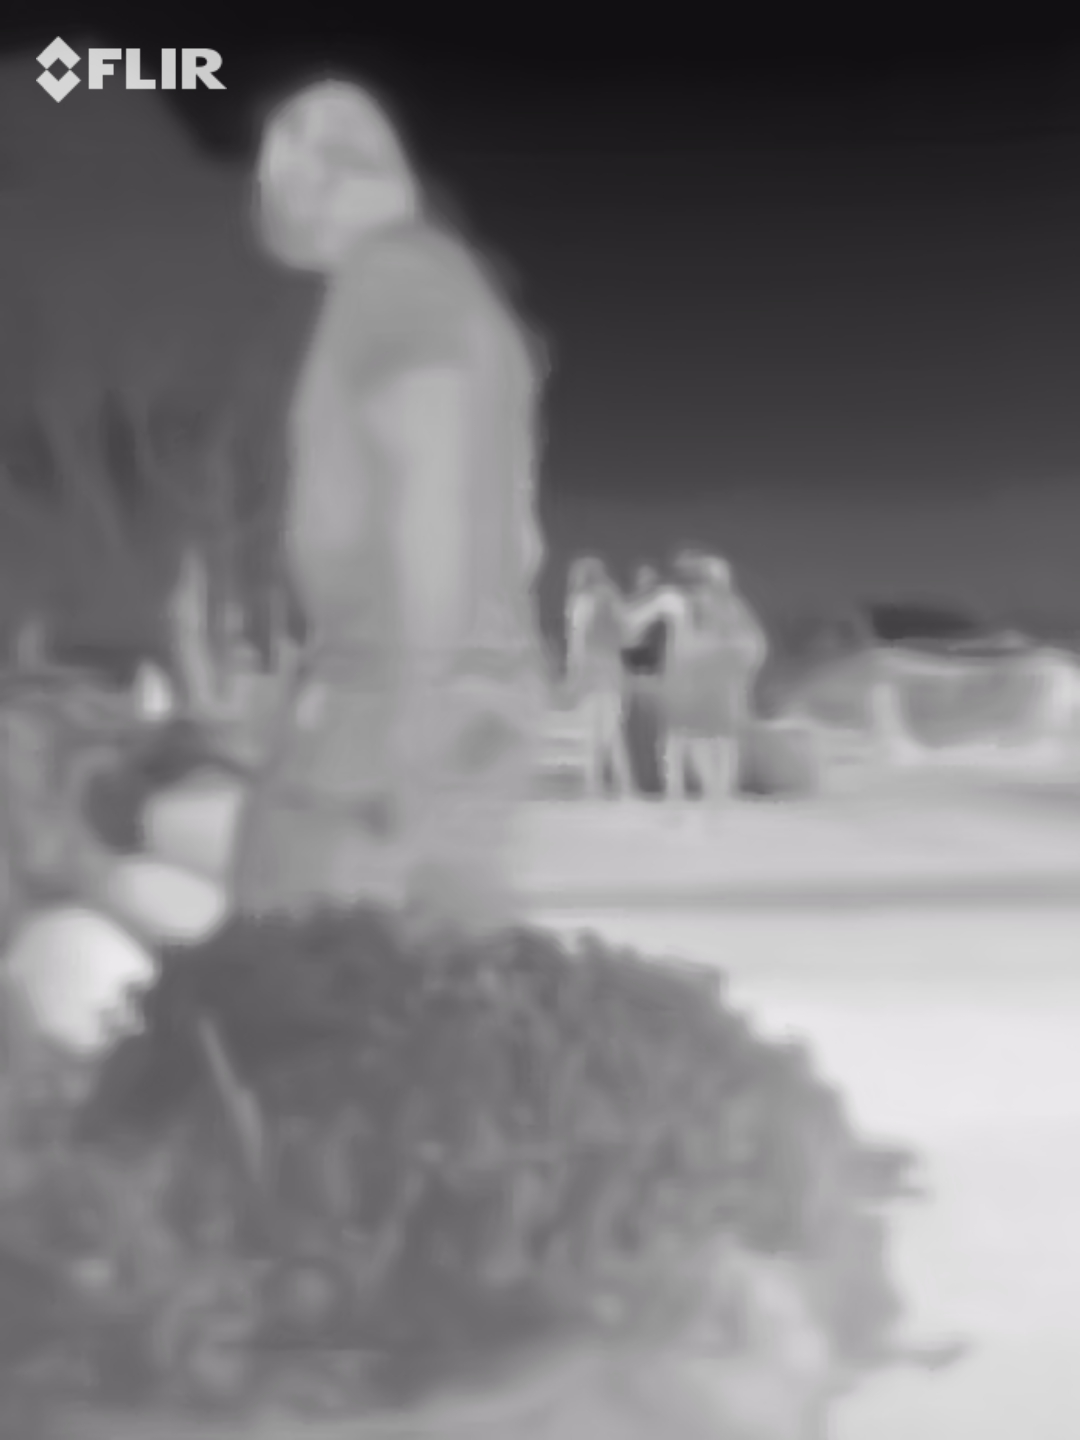head: (238, 77, 416, 284)
